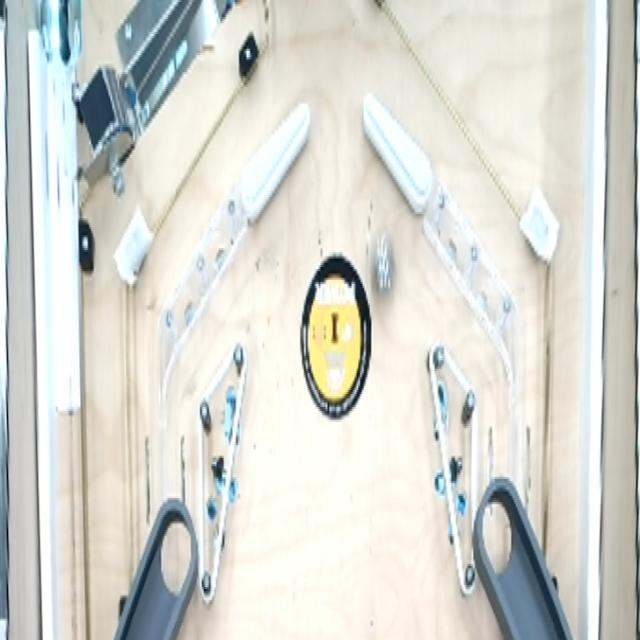ball: (367, 224, 399, 302)
flipper-left: (360, 84, 439, 220)
flipper-right: (236, 97, 314, 225)
